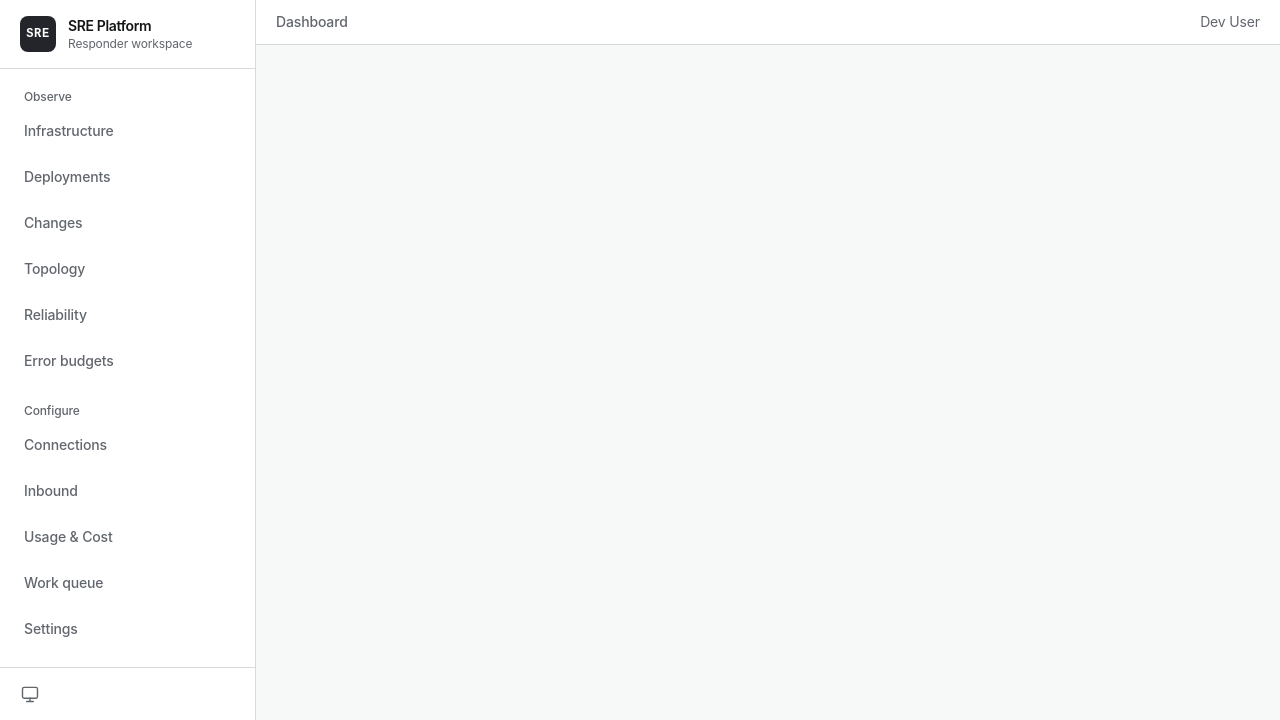
it: Layout › selecting Settings navigates to the registered settings route
This screenshot has width=1280, height=720.
(page scrolled)
What coordinates should you click on to do the following:
click the link "Settings"
I would click on:
 (51, 628)
Its box is left=24, top=620, right=78, bottom=637.
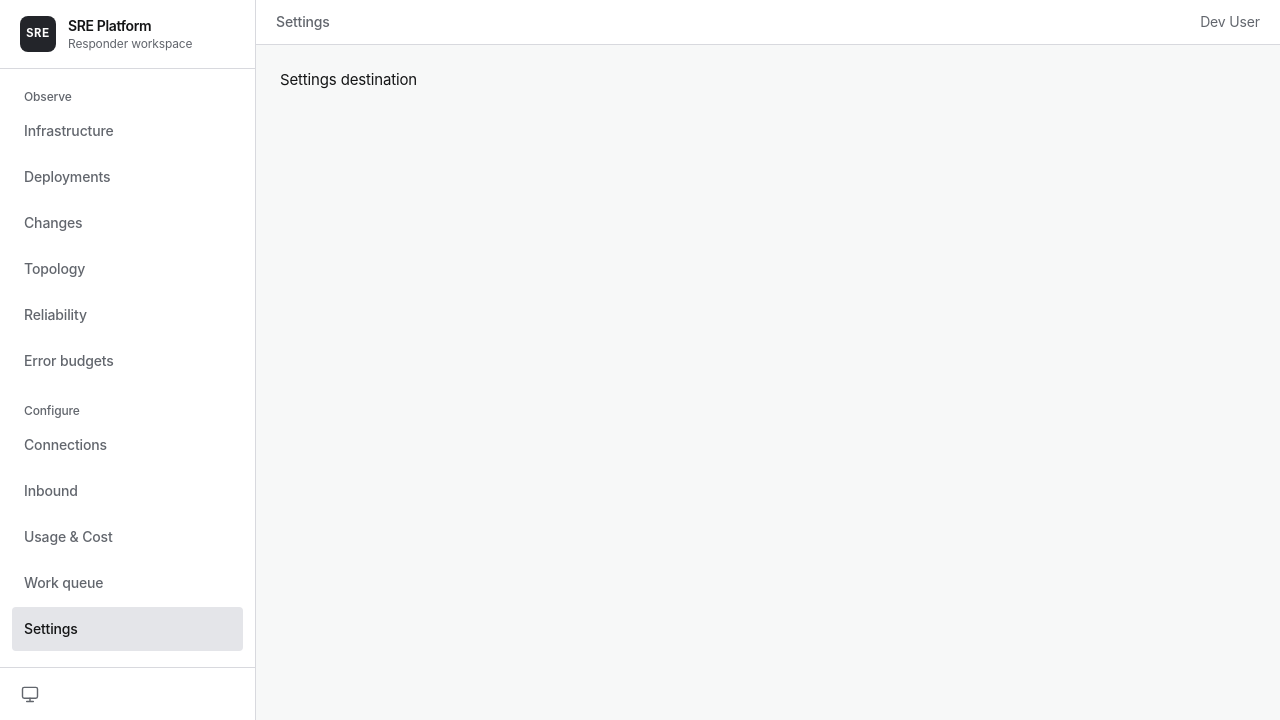
Expected: the text "Settings destination" is shown, left=280, top=70, right=417, bottom=89
